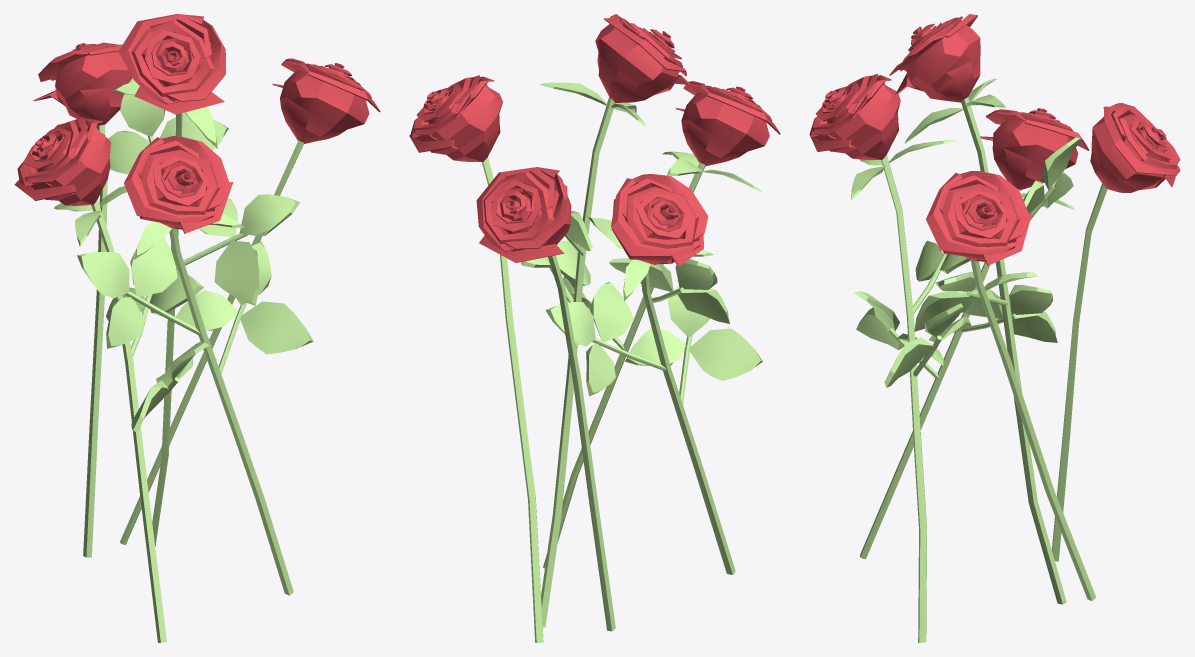
The model's file is Roses.fbx.
The picture shows the model from 3 angles, left to right: view 1: azimuth 30°, elevation 25°; view 2: azimuth 150°, elevation 25°; view 3: azimuth 270°, elevation 25°; orthographic projection. The views are drawn at different scales.
Parts seen in each view (by area): view 1: Sunflower.015; view 2: Sunflower.015; view 3: Sunflower.015.
Boxes of the visible parts, box(x1,y1,x2,y2) form: Sunflower.015: box(14, 14, 380, 642); Sunflower.015: box(409, 14, 780, 642); Sunflower.015: box(809, 14, 1180, 642).
Bounding box in the file's own units: 86.08 × 154 × 89.67.
